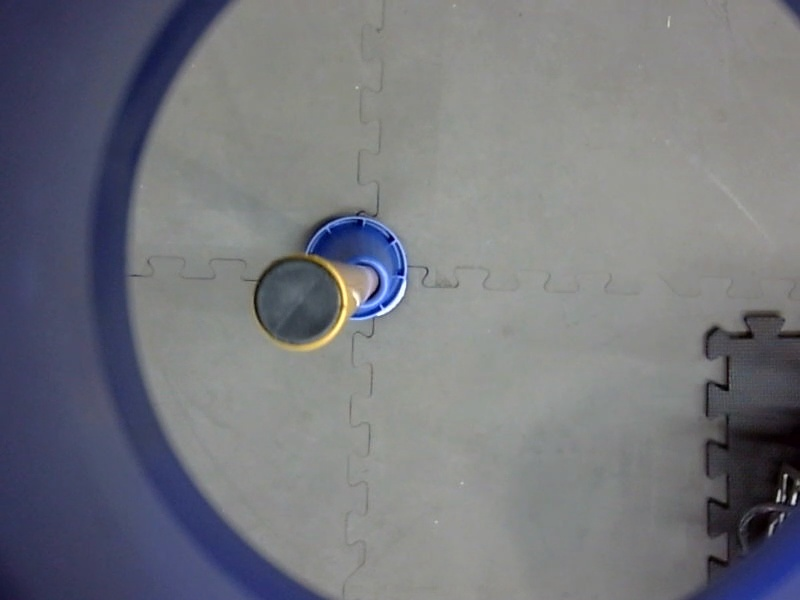tip: (246, 248, 355, 359)
